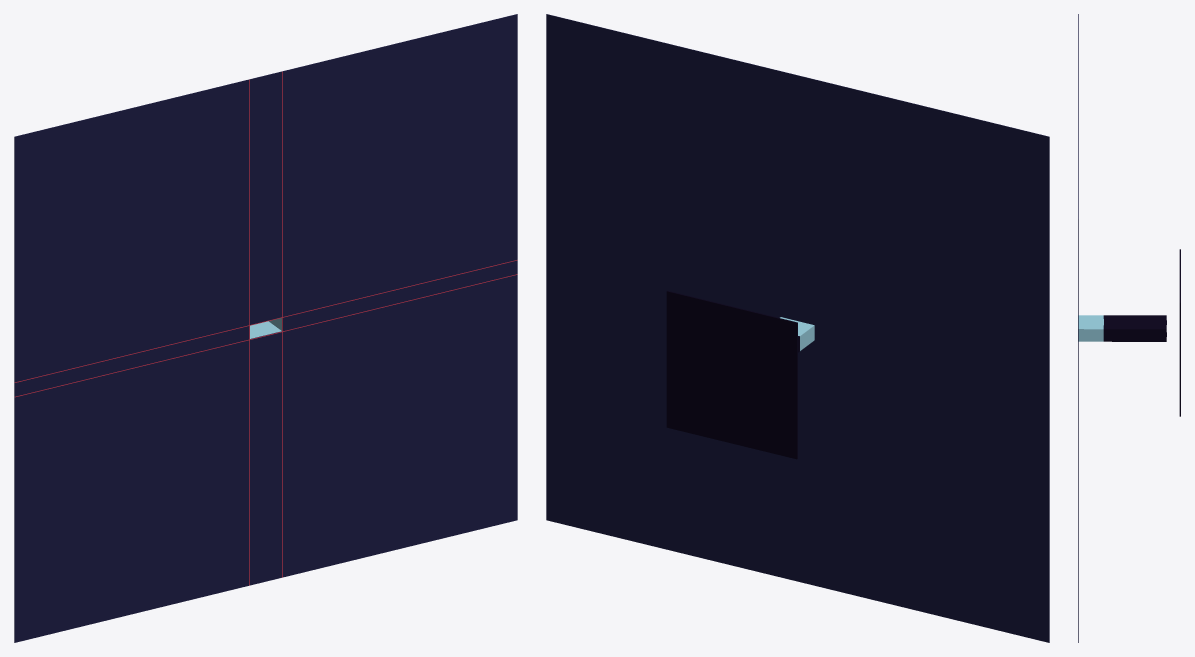
The model's file is TransitZone.fbx.
3 views of the same model, side by side, from view 1: azimuth 30°, elevation 25°; view 2: azimuth 150°, elevation 25°; view 3: azimuth 270°, elevation 25° (orthographic). The views are drawn at different scales.
Parts seen in each view (by area): view 1: TransitZone; view 2: TransitZone, Back; view 3: TransitZone, Back.
Boxes of the visible parts, x1,y1,x2,y2 form: TransitZone: [14, 14, 517, 642]; TransitZone: [546, 14, 1049, 642]; Back: [666, 290, 797, 459]; TransitZone: [1078, 14, 1166, 642]; Back: [1179, 249, 1180, 416].
Bounding box in the file's own units: 772000 × 742000 × 163327.
